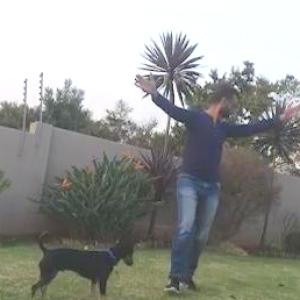takeoff: (128, 63, 299, 281)
